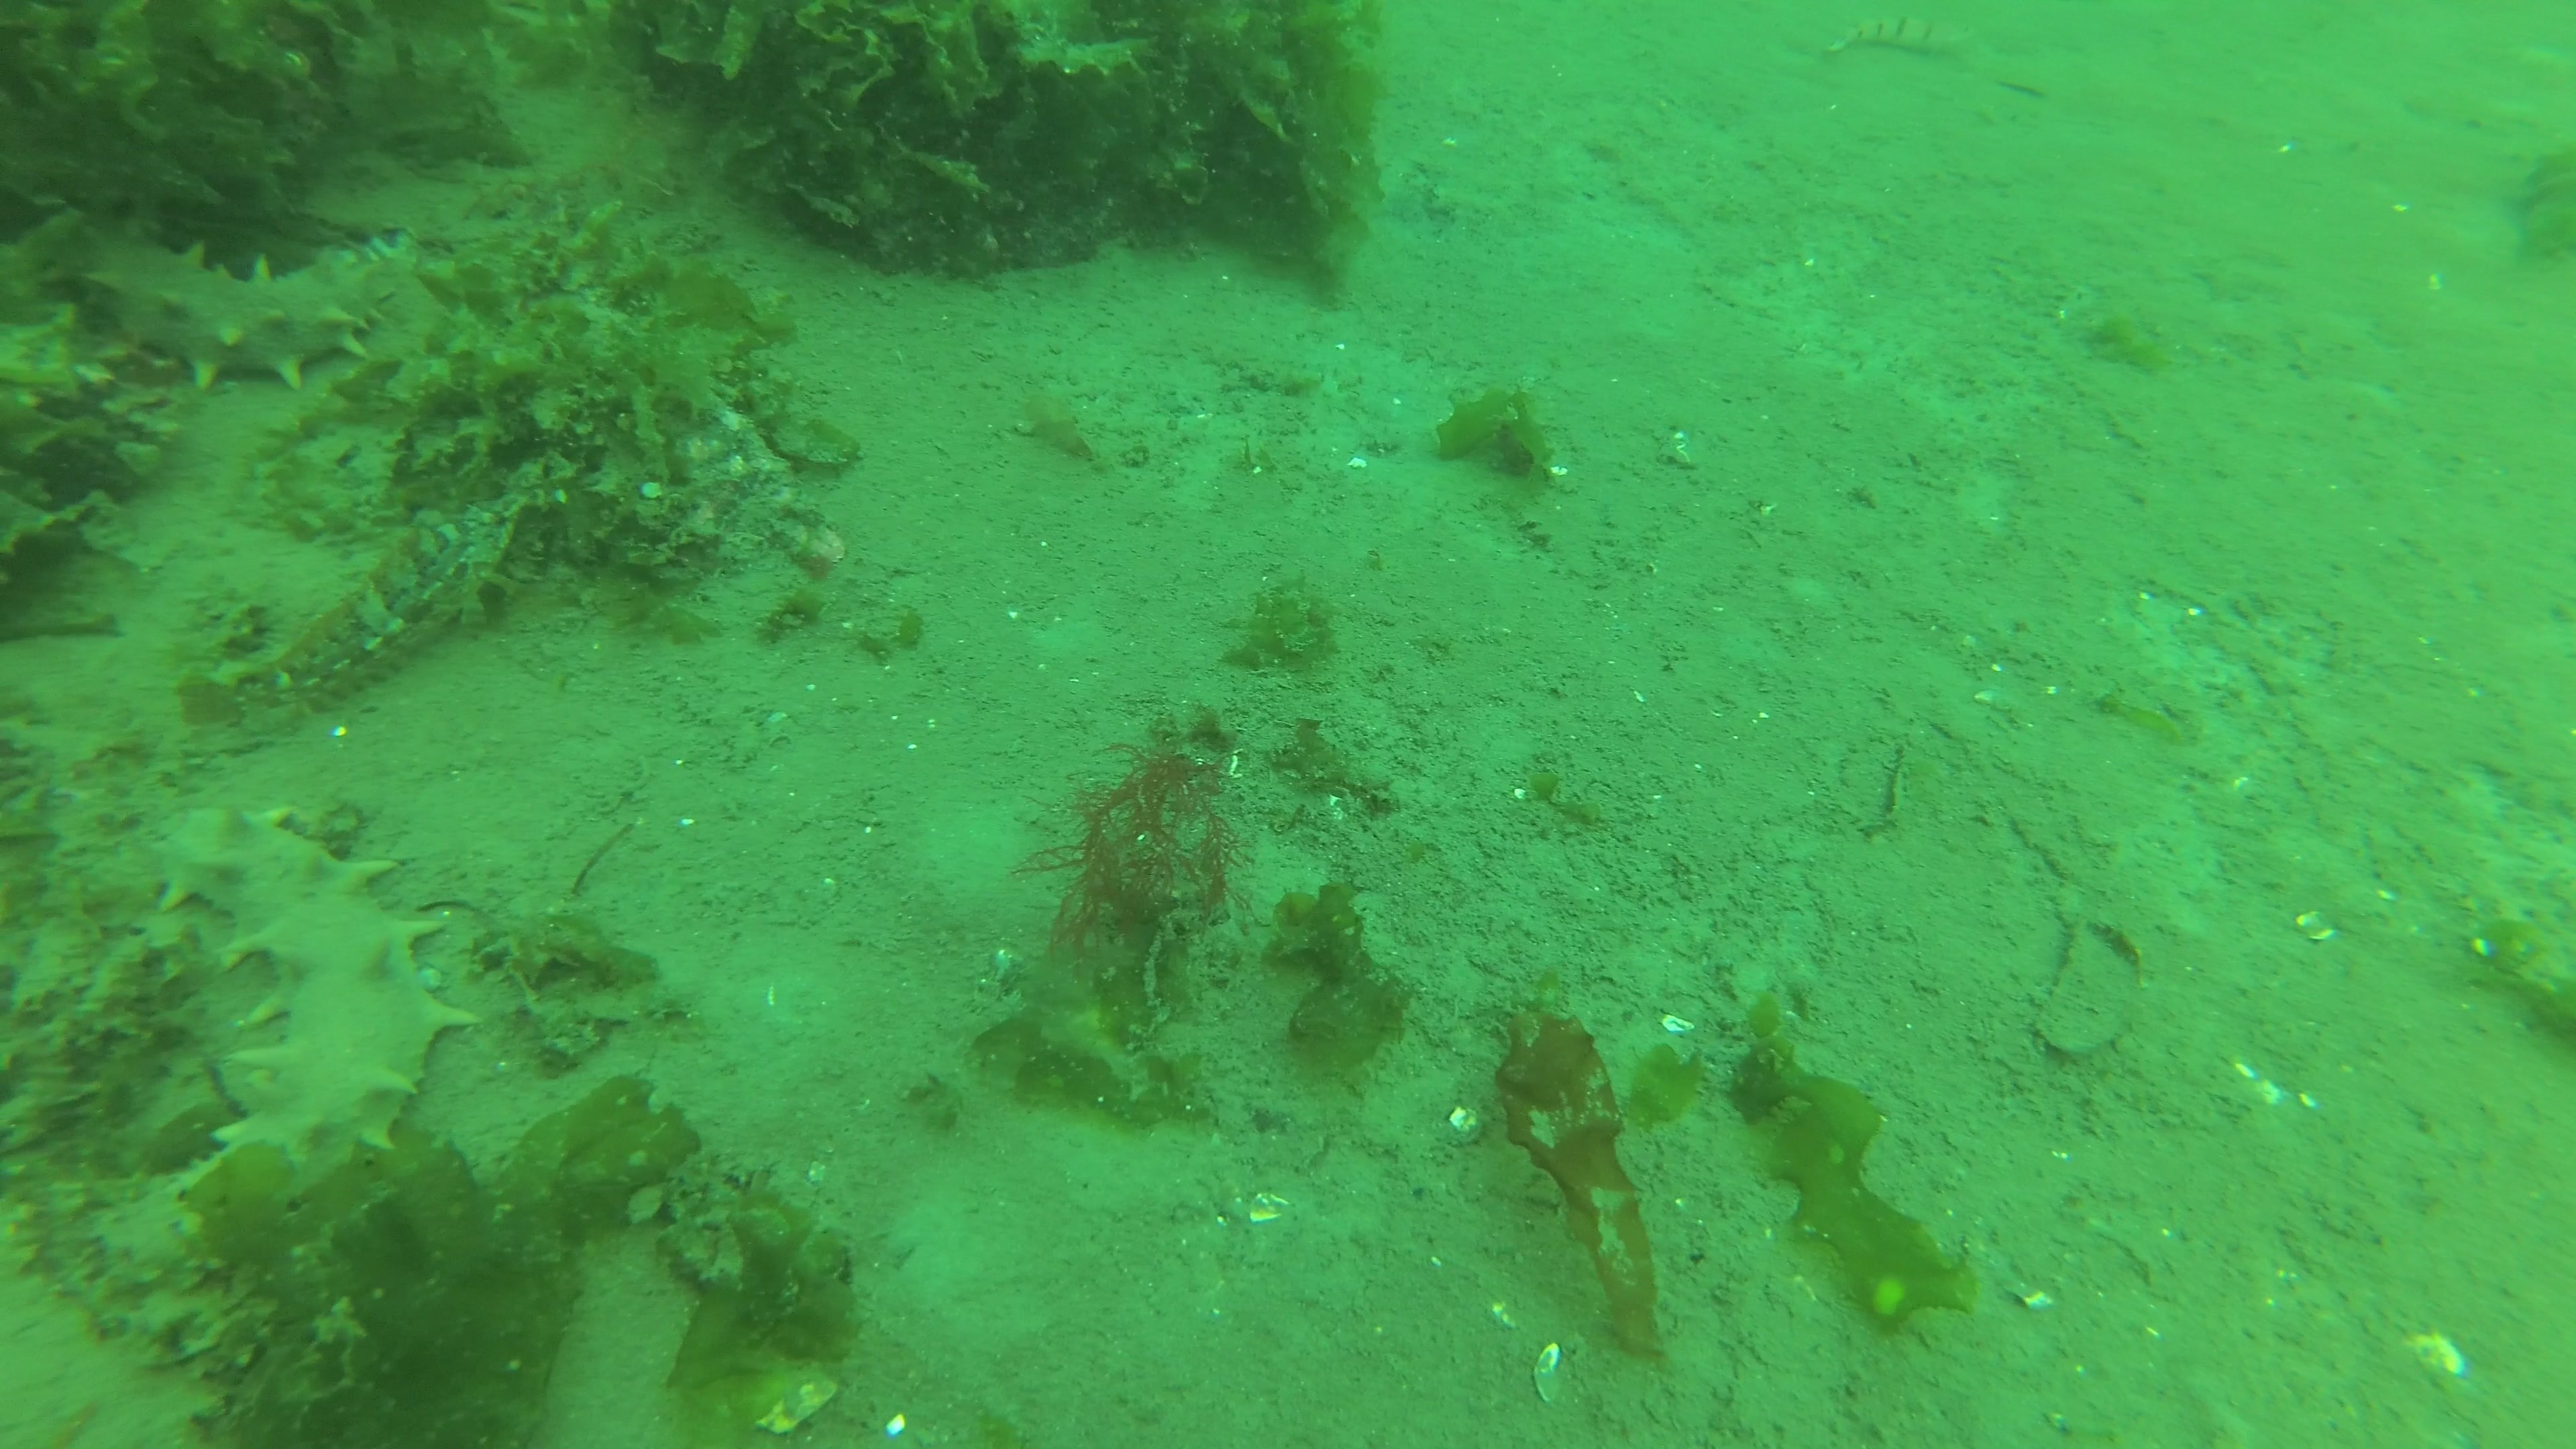holothurian: (83, 800, 488, 1304), (42, 223, 421, 395)
